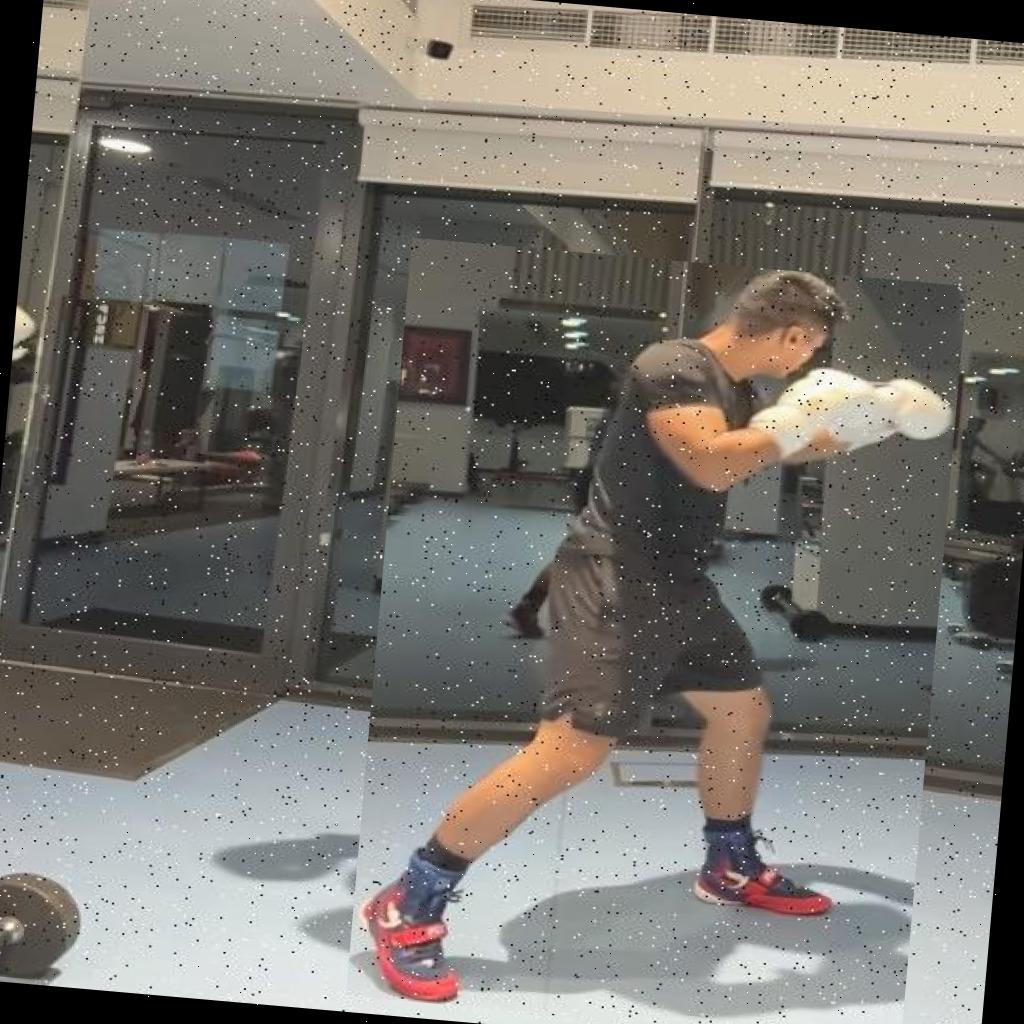no punch: (345, 237, 966, 1024)
